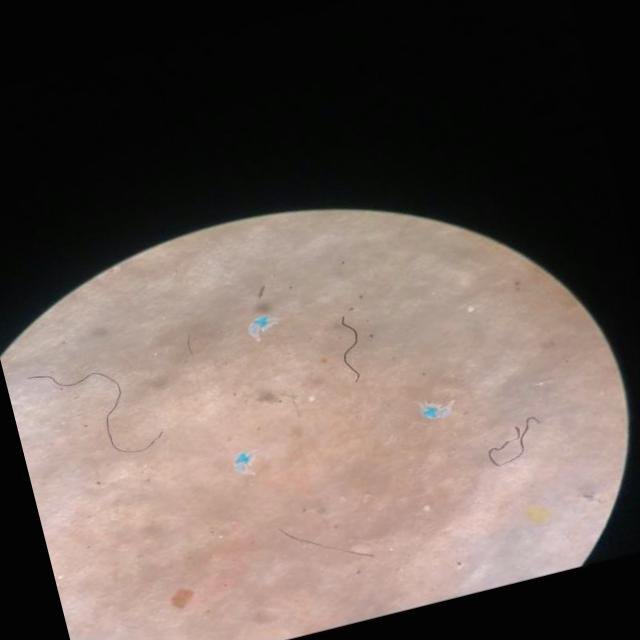fiber: (34, 371, 163, 451), (279, 529, 374, 556), (490, 416, 540, 466), (340, 315, 360, 381)
film: (248, 313, 279, 339), (420, 400, 452, 417), (234, 450, 256, 473)
fragment: (171, 590, 195, 608), (526, 505, 549, 521)
pellet: (467, 305, 475, 312), (423, 504, 431, 511), (308, 394, 315, 401)
